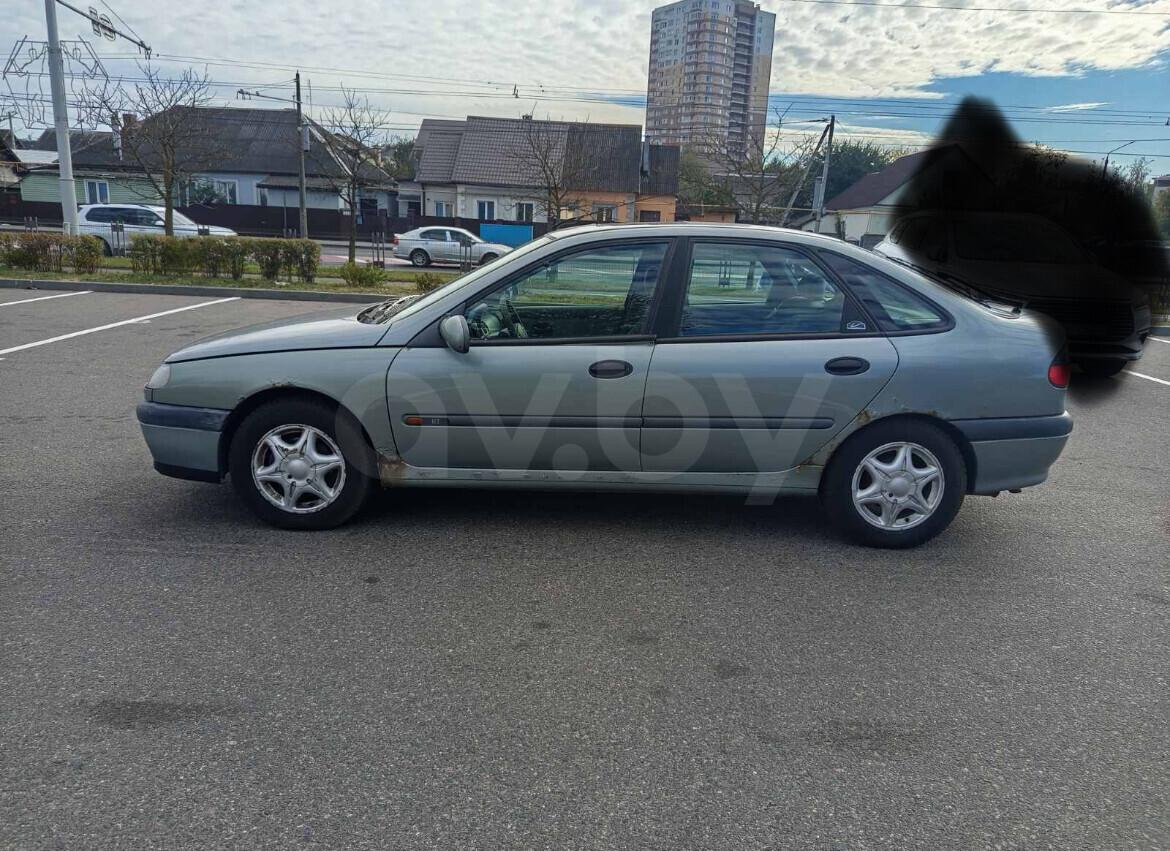Lahuna_1993-1999: (139, 220, 1070, 556)
